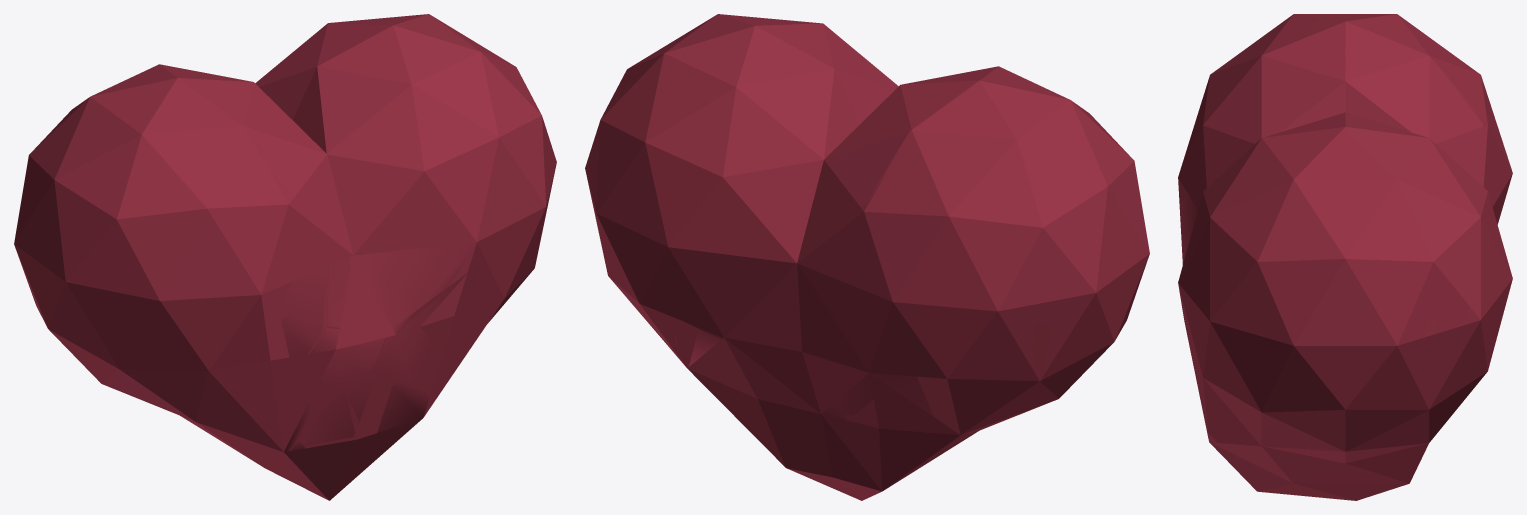
The model's file is heart.glb.
3 renders of one model, left to right at view 1: azimuth 30°, elevation 25°; view 2: azimuth 150°, elevation 25°; view 3: azimuth 270°, elevation 25°, orthographic. The views are drawn at different scales.
Parts seen in each view (by area): view 1: origin, Heart_Full_cell.037, Heart_Full_cell.003, Heart_Full_cell.024, Heart_Full_cell.059, Heart_Full_cell.020, Heart_Full_cell.048, Heart_Full_cell.028, Heart_Full_cell.007, Heart_Full_cell.045, Heart_Full_cell.031, Heart_Full_cell.055 (+9 smaller); view 2: origin, Heart_Full_cell.024, Heart_Full_cell.010, Heart_Full_cell.014, Heart_Full_cell.042, Heart_Full_cell.031, Heart_Full_cell.039, Heart_Full_cell.020, Heart_Full_cell.052, Heart_Full_cell.043, Heart_Full_cell.002, Heart_Full_cell.047 (+8 smaller); view 3: origin, Heart_Full_cell.041, Heart_Full_cell.026, Heart_Full_cell.059, Heart_Full_cell.013, Heart_Full_cell.053, Heart_Full_cell.001, Heart_Full_cell.048, Heart_Full_cell.056, Heart_Full_cell.030, Heart_Full_cell.051, Heart_Full_cell.039 (+14 smaller).
Part boxes in pixels (bbox=[...]): origin: bbox=[14, 15, 550, 500]; Heart_Full_cell.037: bbox=[338, 135, 512, 332]; Heart_Full_cell.003: bbox=[145, 223, 328, 370]; Heart_Full_cell.024: bbox=[14, 115, 149, 323]; Heart_Full_cell.059: bbox=[395, 65, 540, 213]; Heart_Full_cell.020: bbox=[238, 50, 396, 190]; Heart_Full_cell.048: bbox=[165, 80, 263, 200]; Heart_Full_cell.028: bbox=[55, 277, 169, 374]; Heart_Full_cell.007: bbox=[98, 132, 186, 241]; Heart_Full_cell.045: bbox=[299, 371, 435, 464]; Heart_Full_cell.031: bbox=[78, 64, 219, 143]; Heart_Full_cell.055: bbox=[297, 318, 385, 386]; origin: bbox=[588, 17, 1149, 500]; Heart_Full_cell.024: bbox=[1017, 140, 1149, 330]; Heart_Full_cell.010: bbox=[802, 311, 1020, 455]; Heart_Full_cell.014: bbox=[916, 137, 1044, 308]; Heart_Full_cell.042: bbox=[673, 256, 813, 365]; Heart_Full_cell.031: bbox=[908, 78, 1073, 156]; Heart_Full_cell.039: bbox=[636, 54, 799, 180]; Heart_Full_cell.020: bbox=[799, 42, 916, 153]; Heart_Full_cell.052: bbox=[763, 362, 848, 449]; Heart_Full_cell.043: bbox=[644, 204, 727, 309]; Heart_Full_cell.002: bbox=[672, 328, 780, 417]; Heart_Full_cell.047: bbox=[1006, 329, 1119, 418]; origin: bbox=[1178, 14, 1508, 500]; Heart_Full_cell.041: bbox=[1335, 229, 1442, 406]; Heart_Full_cell.026: bbox=[1262, 117, 1410, 229]; Heart_Full_cell.059: bbox=[1191, 150, 1289, 294]; Heart_Full_cell.013: bbox=[1278, 381, 1415, 452]; Heart_Full_cell.053: bbox=[1245, 288, 1341, 385]; Heart_Full_cell.001: bbox=[1194, 295, 1296, 415]; Heart_Full_cell.048: bbox=[1209, 27, 1345, 106]; Heart_Full_cell.056: bbox=[1402, 216, 1469, 317]; Heart_Full_cell.030: bbox=[1298, 463, 1418, 494]; Heart_Full_cell.051: bbox=[1270, 230, 1394, 298]; Heart_Full_cell.039: bbox=[1369, 121, 1441, 216].
Bounding box in the file's own units: 1.84 × 1.53 × 1.09.
